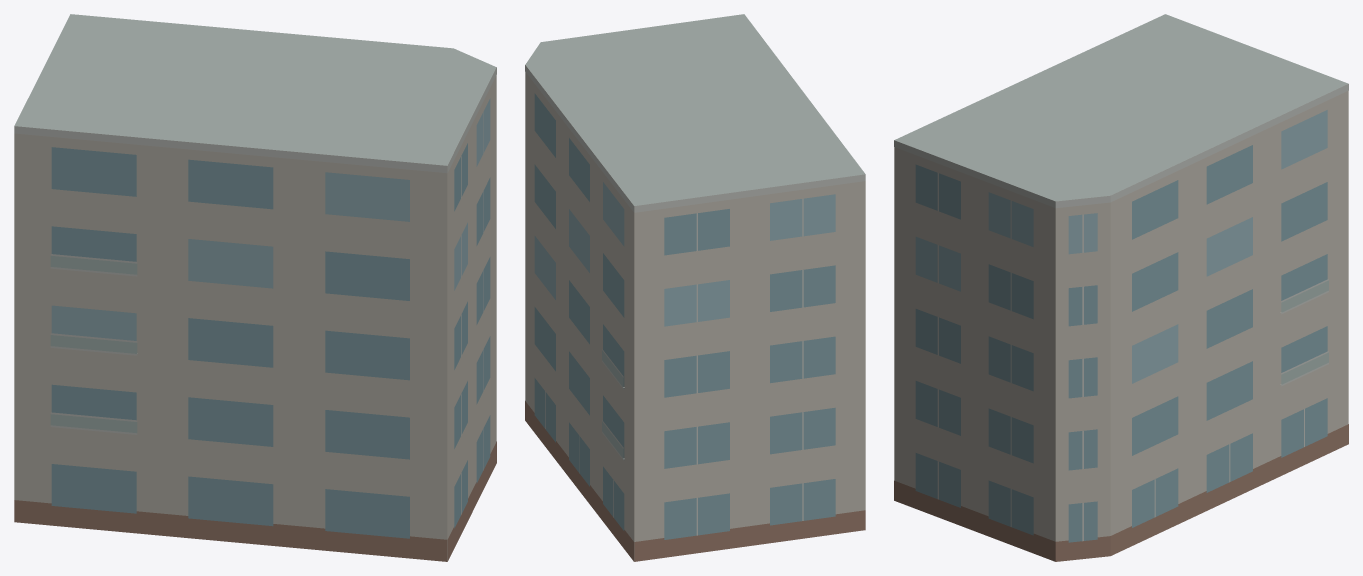
Rendered from survey-upis-32534457.glb.
3 views of the same model, side by side, from view 1: azimuth 30°, elevation 25°; view 2: azimuth 150°, elevation 25°; view 3: azimuth 270°, elevation 25° (orthographic). The views are drawn at different scales.
Visible parts, largest first — view 1: survey-upis-32534457.tmp; view 2: survey-upis-32534457.tmp; view 3: survey-upis-32534457.tmp.
Part boxes in pixels (x1=…): survey-upis-32534457.tmp: x1=14, y1=14, x2=496, y2=561; survey-upis-32534457.tmp: x1=525, y1=14, x2=865, y2=561; survey-upis-32534457.tmp: x1=894, y1=14, x2=1348, y2=561.
Size of the model in its own units: 14.51 by 13 by 14.87.
